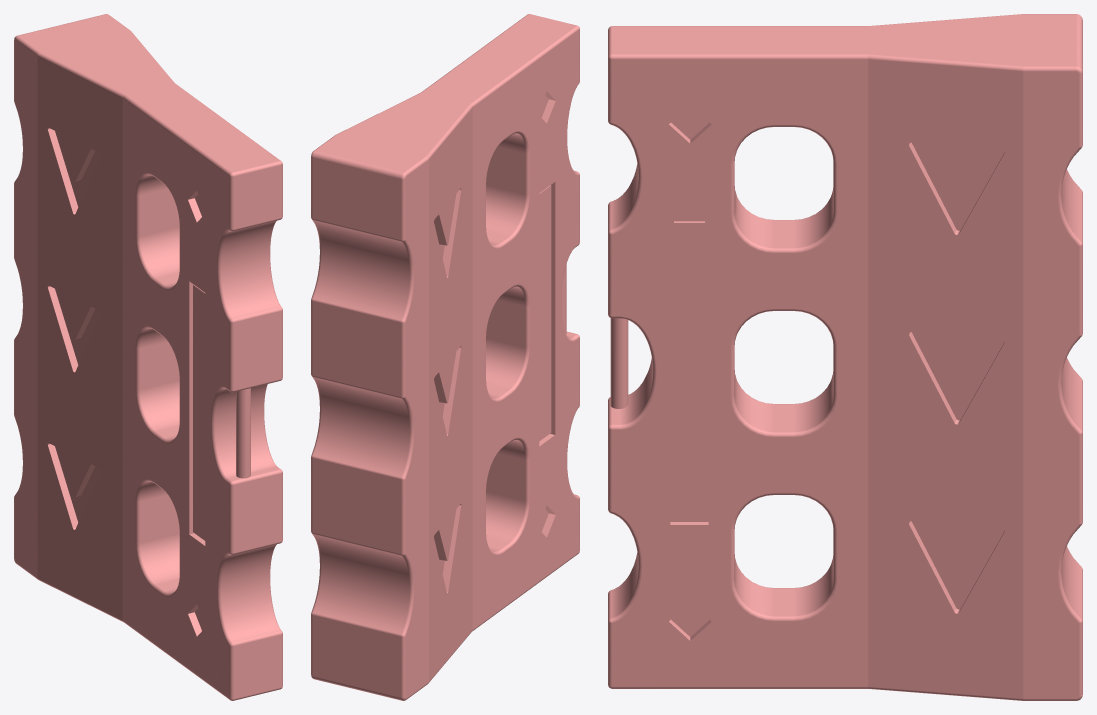
The picture shows the model from 3 angles, left to right: view 1: azimuth 30°, elevation 25°; view 2: azimuth 150°, elevation 25°; view 3: azimuth 270°, elevation 25°; orthographic projection. The views are drawn at different scales.
Parts seen in each view (by area): view 1: Default; view 2: Default; view 3: Default.
Part boxes in pixels (x1,y1,x2,y2): Default: (14,14,282,700); Default: (311,14,579,700); Default: (608,14,1082,700).
Bounding box in the file's own units: 0.2745 × 1.47 × 0.9975.
